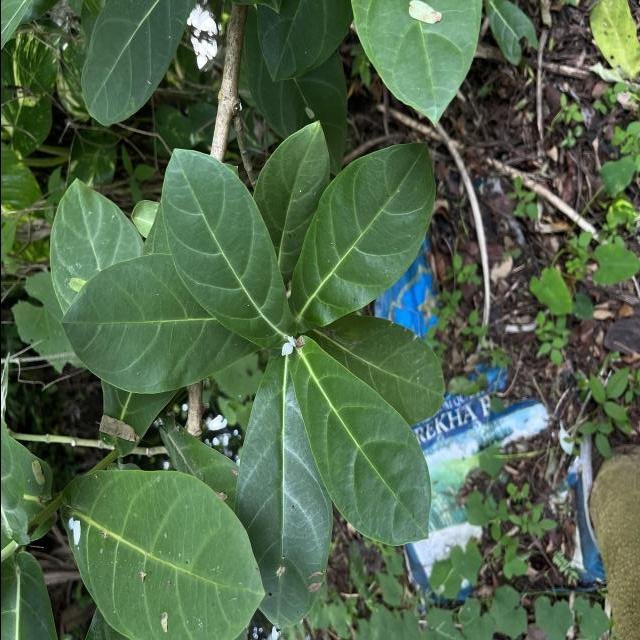Calotropis gigantea: (56, 468, 266, 640), (288, 334, 432, 548), (58, 252, 265, 395), (288, 139, 436, 334), (159, 147, 298, 350), (232, 354, 334, 630)
